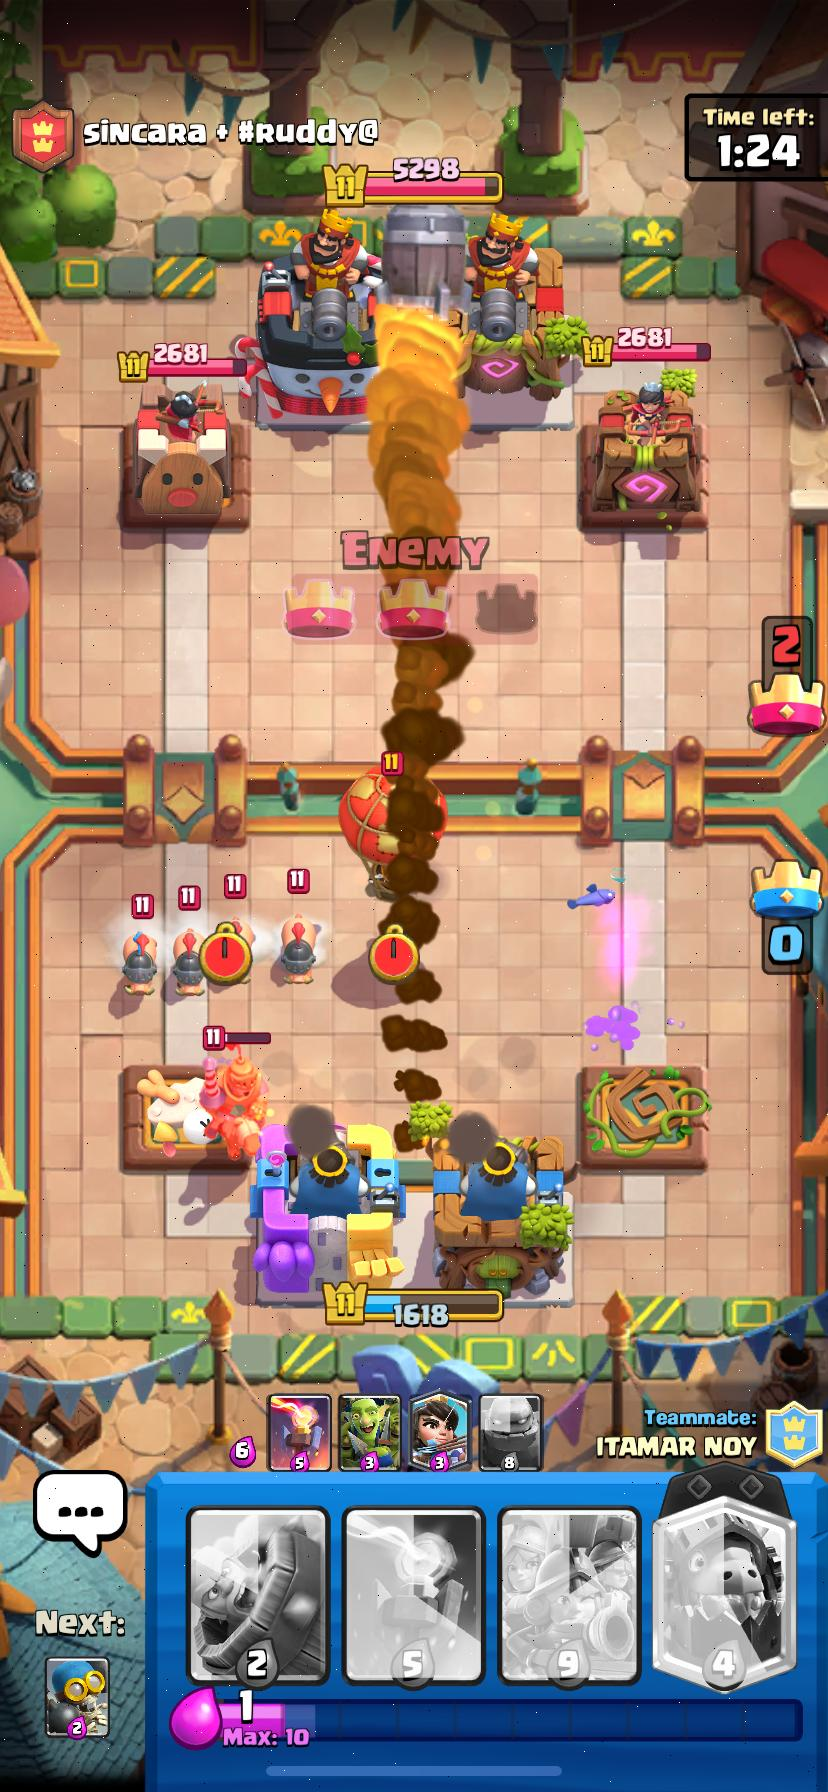EKingTower: (248, 209, 380, 421), (464, 213, 568, 427)
EPrince: (200, 1046, 266, 1160)
ERoyalHog: (280, 914, 317, 984), (173, 928, 206, 995), (124, 931, 156, 997)
EnemyPrincessTower: (578, 385, 706, 529), (126, 383, 230, 525)
ORocket: (382, 203, 465, 320)
OwnKingTower: (250, 1125, 405, 1301), (433, 1125, 572, 1294)
TowerDown: (122, 1066, 257, 1173), (580, 1065, 709, 1169)
